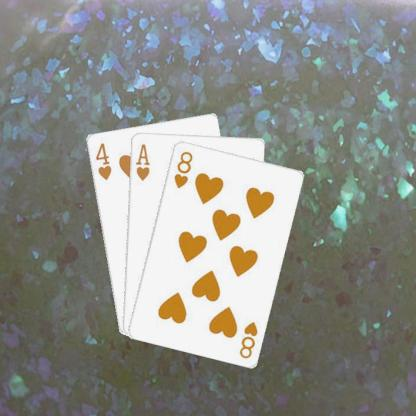4H: (92, 140, 113, 181)
8H: (171, 148, 194, 189), (237, 318, 259, 360)
AH: (133, 141, 151, 182)
